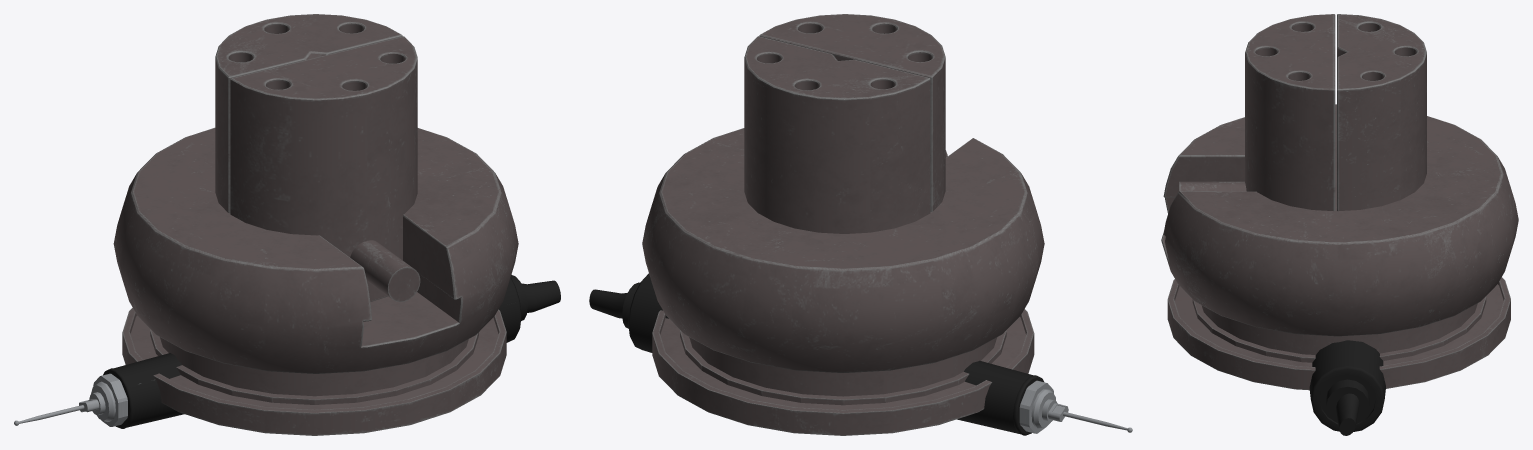
The picture shows the model from 3 angles, left to right: view 1: azimuth 30°, elevation 25°; view 2: azimuth 150°, elevation 25°; view 3: azimuth 270°, elevation 25°; orthographic projection. The views are drawn at different scales.
Visible parts, largest first — view 1: 206_TaiHuQian_01, 206_TaiHuQian_02, 206_DaMoJi_JiShen; view 2: 206_TaiHuQian_01, 206_TaiHuQian_02, 206_DaMoJi_JiShen; view 3: 206_TaiHuQian_01, 206_TaiHuQian_02, 206_DaMoJi_JiShen.
Part boxes in pixels (x1,y1,x2,y2): 206_TaiHuQian_01: [113, 14, 518, 435]; 206_TaiHuQian_02: [230, 36, 417, 301]; 206_DaMoJi_JiShen: [79, 275, 560, 428]; 206_TaiHuQian_01: [642, 36, 1044, 435]; 206_TaiHuQian_02: [759, 14, 945, 211]; 206_DaMoJi_JiShen: [589, 273, 1068, 435]; 206_TaiHuQian_01: [1161, 14, 1518, 390]; 206_TaiHuQian_02: [1245, 14, 1335, 211]; 206_DaMoJi_JiShen: [1309, 340, 1385, 435].
Bounding box in the file's own units: 24.83 × 14.85 × 15.88.
Materials: 2 (2 with a texture image).
